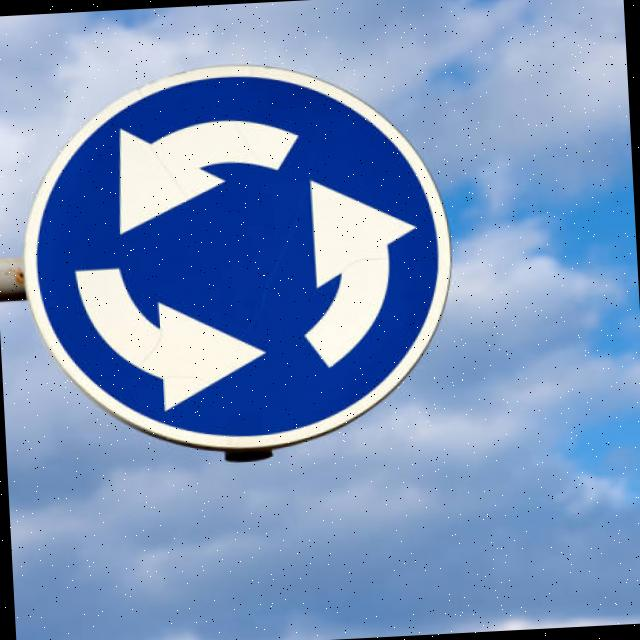round_about: (11, 39, 470, 472)
